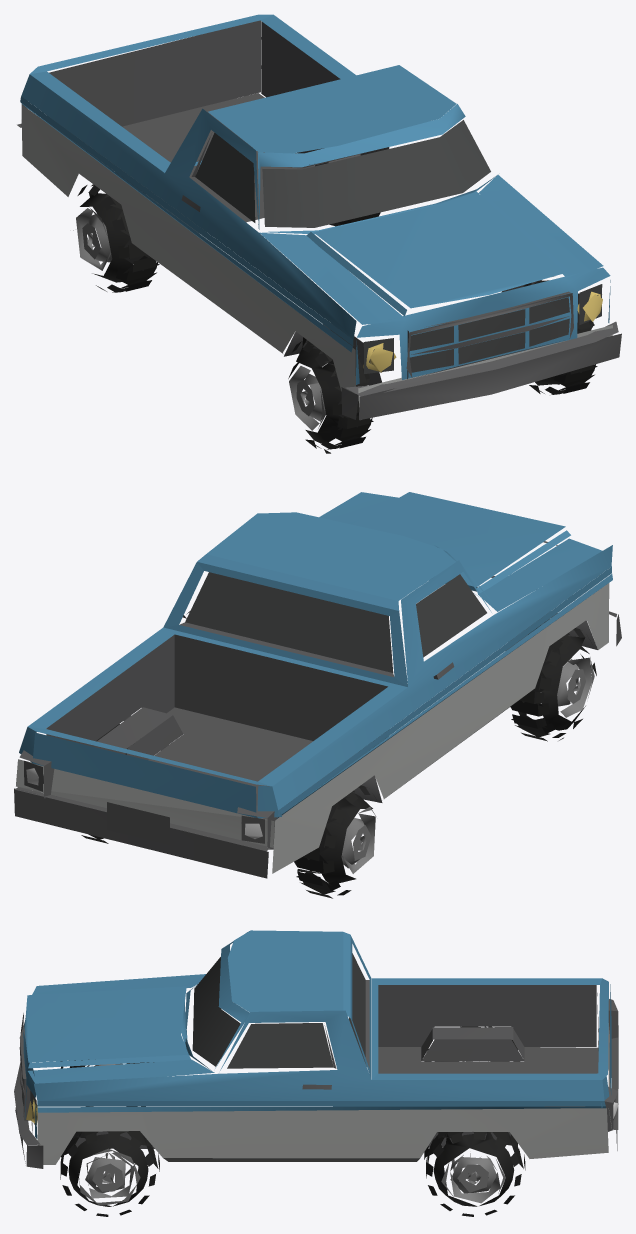
File: parade-truck.glb
3 views of the same model, one above another, from view 1: azimuth 30°, elevation 25°; view 2: azimuth 150°, elevation 25°; view 3: azimuth 270°, elevation 25° (orthographic). The views are drawn at different scales.
Parts seen in each view (by area): view 1: BackWheels; view 2: BackWheels; view 3: BackWheels.
Part boxes in pixels (box(x1,y1,x2,y2)): BackWheels: box(17, 14, 621, 453); BackWheels: box(14, 492, 621, 898); BackWheels: box(14, 930, 618, 1216).
Bounding box in the file's own units: 2.68 × 2.17 × 6.
Materials: 3 (1 with a texture image).
